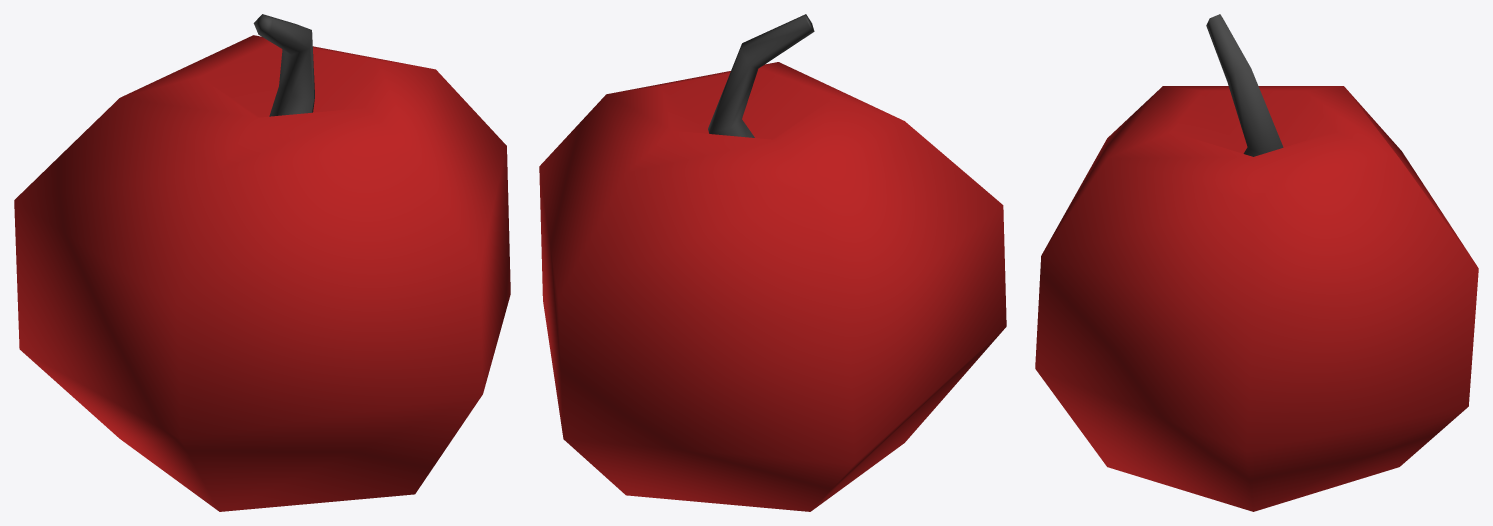
The model's file is Apple_Red.fbx.
3 views of the same model, side by side, from view 1: azimuth 30°, elevation 25°; view 2: azimuth 150°, elevation 25°; view 3: azimuth 270°, elevation 25° (orthographic). The views are drawn at different scales.
Visible parts, largest first — view 1: Apple_Red; view 2: Apple_Red; view 3: Apple_Red.
Part boxes in pixels (x1,y1,x2,y2): Apple_Red: (14, 14, 510, 511); Apple_Red: (539, 14, 1006, 511); Apple_Red: (1035, 14, 1478, 511).
Size of the model in its own units: 17.35 by 20.14 by 17.93.
